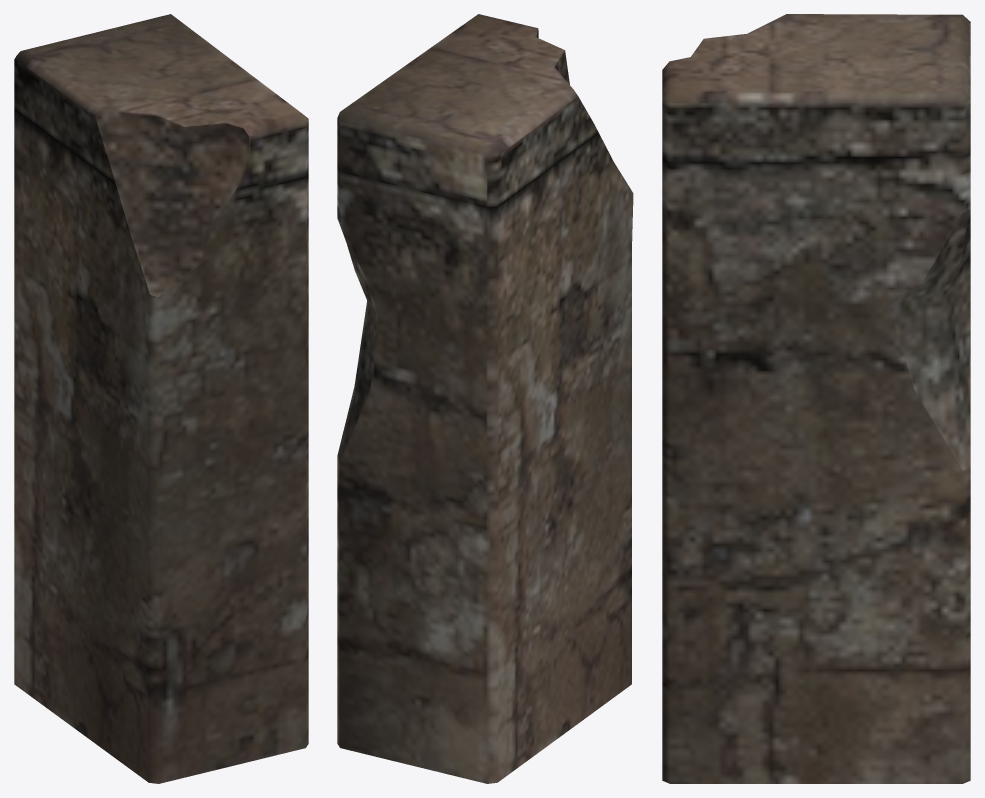
Rendered from BrokenBeam_02.FBX.
The picture shows the model from 3 angles, left to right: view 1: azimuth 30°, elevation 25°; view 2: azimuth 150°, elevation 25°; view 3: azimuth 270°, elevation 25°; orthographic projection. The views are drawn at different scales.
Visible parts, largest first — view 1: BrokenBeam_02; view 2: BrokenBeam_02; view 3: BrokenBeam_02.
Boxes of the visible parts, left/top/right/bottom form: BrokenBeam_02: left=14, top=14, right=308, bottom=783; BrokenBeam_02: left=337, top=14, right=633, bottom=783; BrokenBeam_02: left=662, top=14, right=970, bottom=783.
Bounding box in the file's own units: 25.13 × 95 × 38.64.
